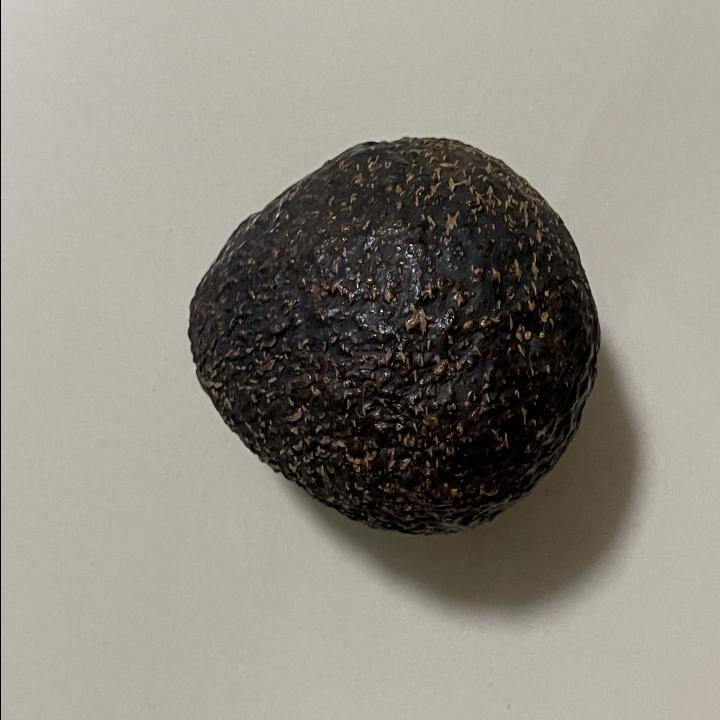Level3: (180, 126, 606, 546)
